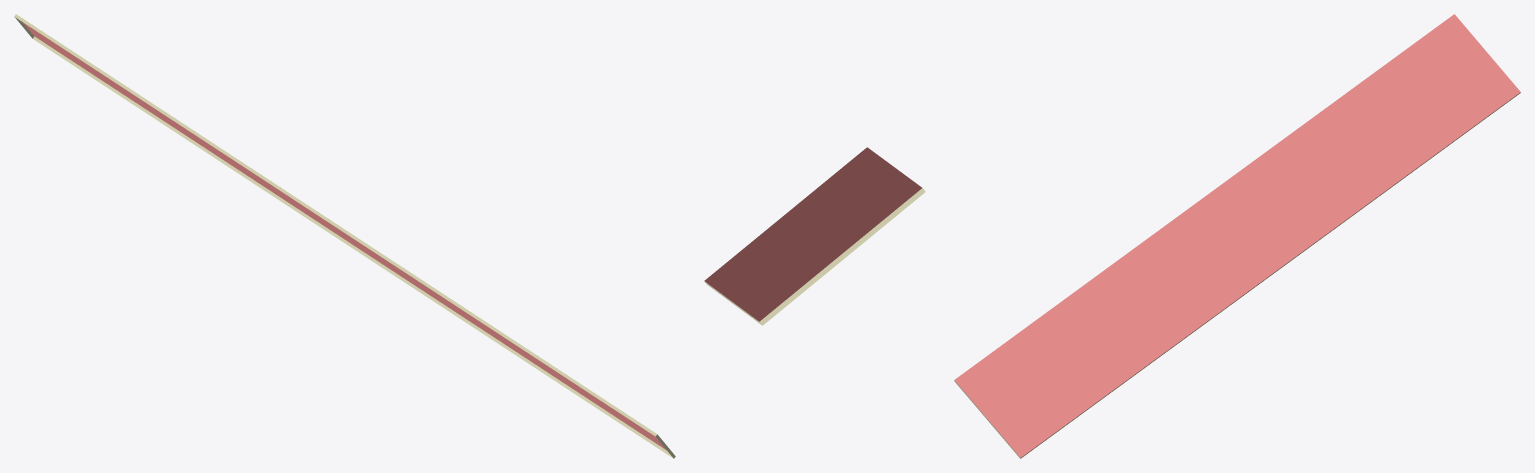
The model's file is tile_098.glb.
The picture shows the model from 3 angles, left to right: view 1: azimuth 30°, elevation 25°; view 2: azimuth 150°, elevation 25°; view 3: azimuth 270°, elevation 25°; orthographic projection. The views are drawn at different scales.
Visible parts, largest first — view 1: Batched_Building_ID_28F12BDB-79E4-421D-8B3B-AC2261D15284 (×2); view 2: Batched_Building_ID_28F12BDB-79E4-421D-8B3B-AC2261D15284 (×2); view 3: Batched_Building_ID_28F12BDB-79E4-421D-8B3B-AC2261D15284 (×2).
Part boxes in pixels (x1,y1,x2,y2): Batched_Building_ID_28F12BDB-79E4-421D-8B3B-AC2261D15284 (×2): (14,14,675,458); Batched_Building_ID_28F12BDB-79E4-421D-8B3B-AC2261D15284 (×2): (704,147,925,325); Batched_Building_ID_28F12BDB-79E4-421D-8B3B-AC2261D15284 (×2): (954,14,1520,458).
Bounding box in the file's own units: 14.62 × 12.22 × 21.9.
